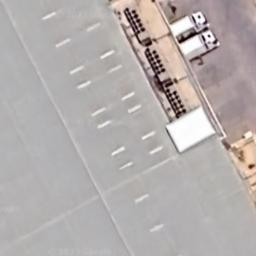truck: (164, 8, 209, 43), (179, 29, 223, 64)
